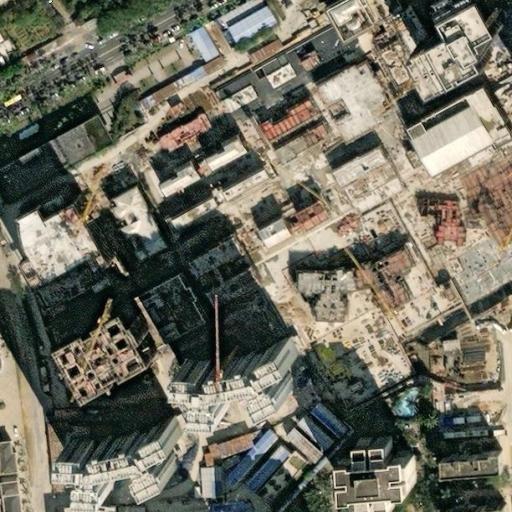building: (406, 82, 512, 174), (0, 117, 112, 204), (155, 160, 272, 239), (296, 250, 416, 324), (184, 341, 301, 414), (64, 418, 182, 490), (57, 304, 152, 391), (18, 197, 105, 282), (421, 185, 512, 257), (124, 277, 202, 355), (34, 243, 120, 311), (175, 234, 251, 306), (327, 143, 398, 215), (309, 59, 381, 130), (444, 0, 511, 69), (340, 438, 407, 505), (250, 194, 325, 253), (108, 191, 166, 265), (436, 321, 512, 364), (250, 454, 301, 507), (94, 135, 146, 185), (241, 23, 301, 66), (202, 422, 262, 464), (278, 418, 328, 468), (249, 96, 306, 139), (156, 117, 211, 157), (221, 5, 272, 48), (269, 123, 325, 162), (436, 445, 502, 478), (136, 85, 191, 124), (370, 45, 412, 92), (133, 61, 183, 97), (196, 133, 239, 169), (152, 156, 191, 194), (415, 40, 447, 84), (200, 58, 239, 93), (0, 443, 19, 512), (180, 26, 213, 65), (427, 35, 456, 78), (53, 431, 85, 469), (436, 31, 464, 73), (216, 88, 255, 118), (259, 63, 296, 94), (198, 461, 222, 497), (440, 499, 498, 512), (39, 191, 67, 216), (293, 50, 319, 75), (53, 399, 66, 430), (68, 506, 116, 512)
